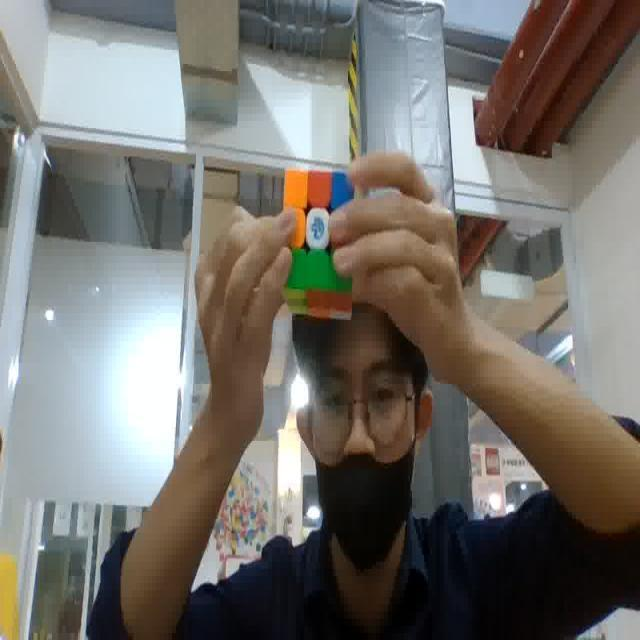Rub: (278, 165, 362, 320)
